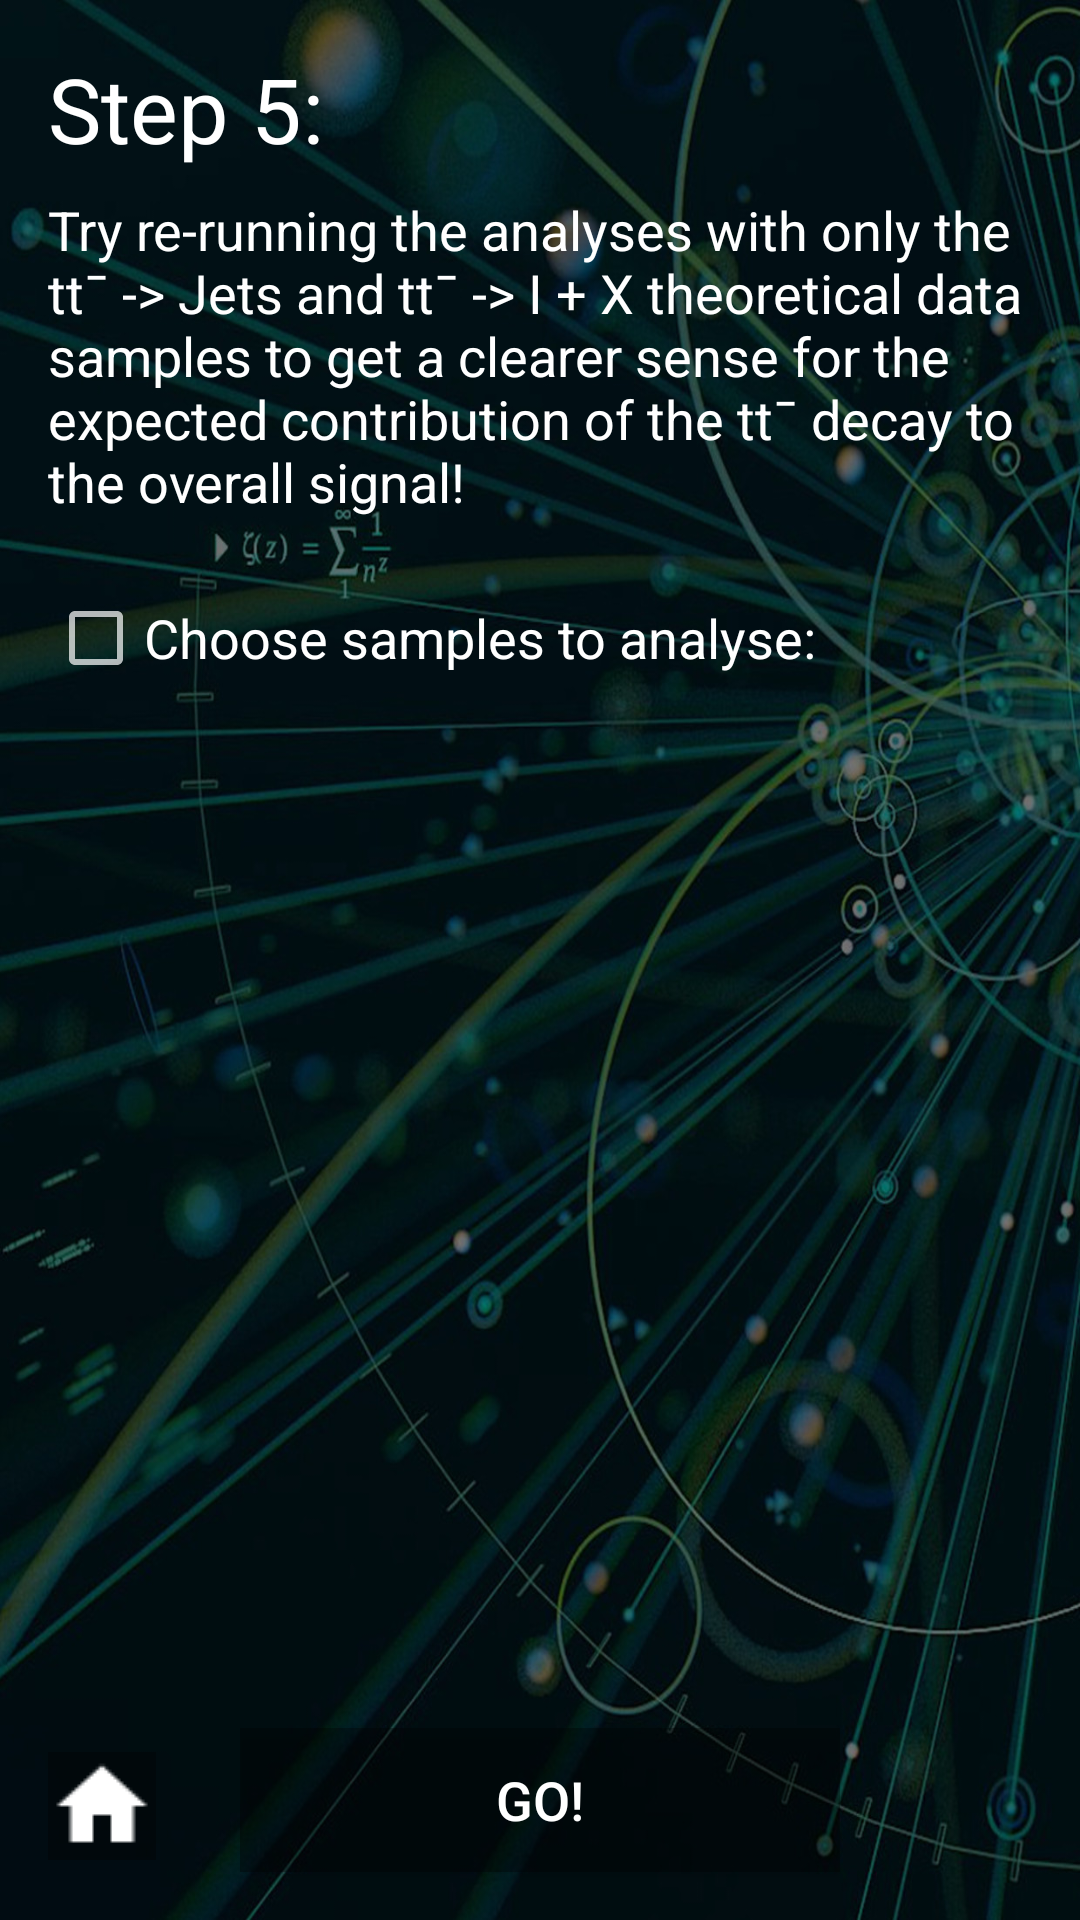

Icons on this 1080x1920 Android screen, each with the point to tap as (x=x, y=y):
home: (x=102, y=1804)
